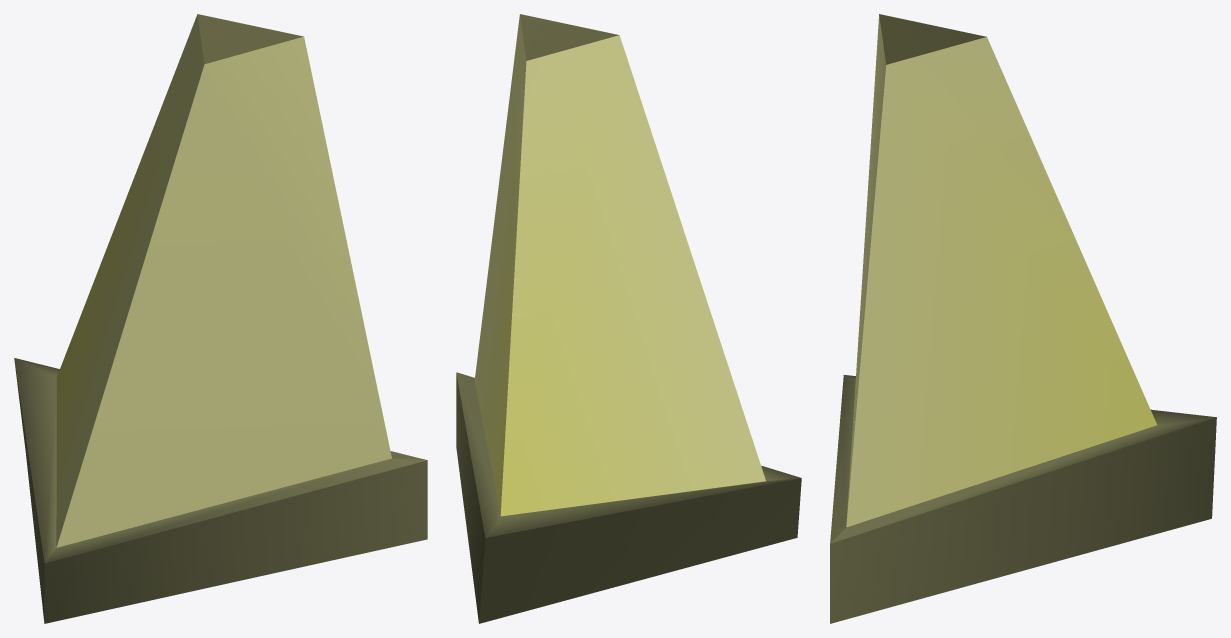
File: c_tower_body_triangle_ab.fbx
3 renders of one model, left to right at view 1: azimuth 30°, elevation 25°; view 2: azimuth 150°, elevation 25°; view 3: azimuth 270°, elevation 25°, orthographic. The views are drawn at different scales.
Parts seen in each view (by area): view 1: c_tower_body_triangle_ab; view 2: c_tower_body_triangle_ab; view 3: c_tower_body_triangle_ab.
Part boxes in pixels (x1=…): c_tower_body_triangle_ab: x1=14, y1=14, x2=427, y2=623; c_tower_body_triangle_ab: x1=456, y1=14, x2=801, y2=623; c_tower_body_triangle_ab: x1=830, y1=14, x2=1216, y2=623.
Bounding box in the file's own units: 7.57 × 9.72 × 6.66.
